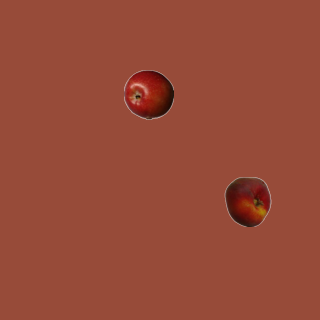Apple Braeburn: (123, 69, 173, 119)
Nectarine Flat: (222, 176, 272, 226)
